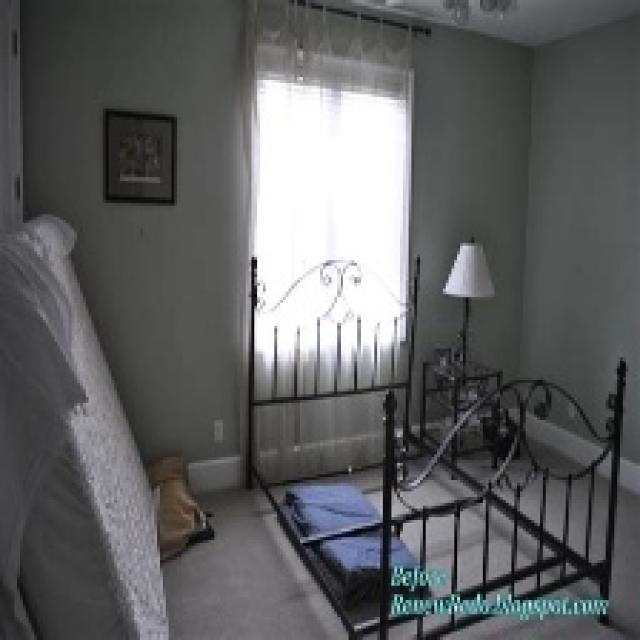Bed: (245, 252, 626, 637)
